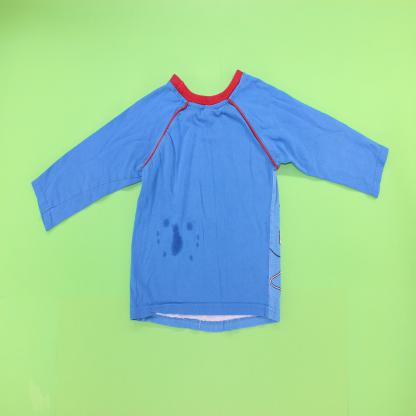stain: (169, 220, 185, 259), (185, 219, 195, 234), (162, 217, 171, 230), (162, 250, 167, 259), (189, 253, 194, 262), (195, 241, 200, 248), (156, 230, 160, 238), (196, 233, 200, 241), (156, 239, 160, 245)
